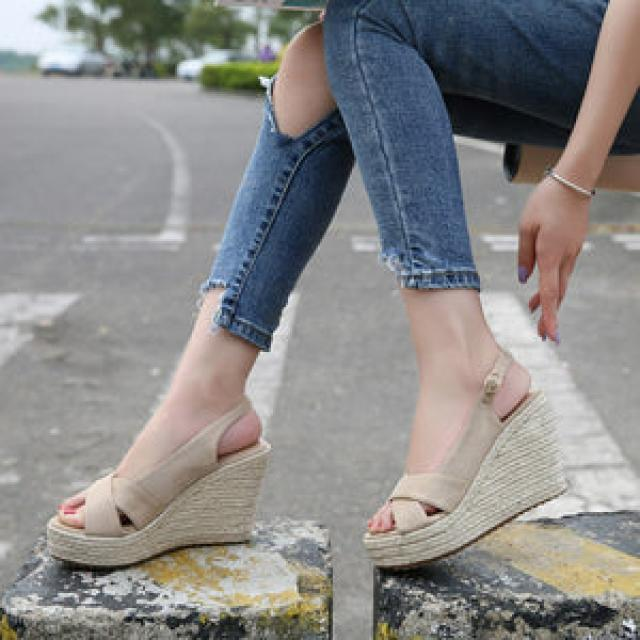Sandals: (46, 356, 272, 571), (362, 351, 573, 566)
